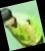yellow: (0, 1, 45, 51)
